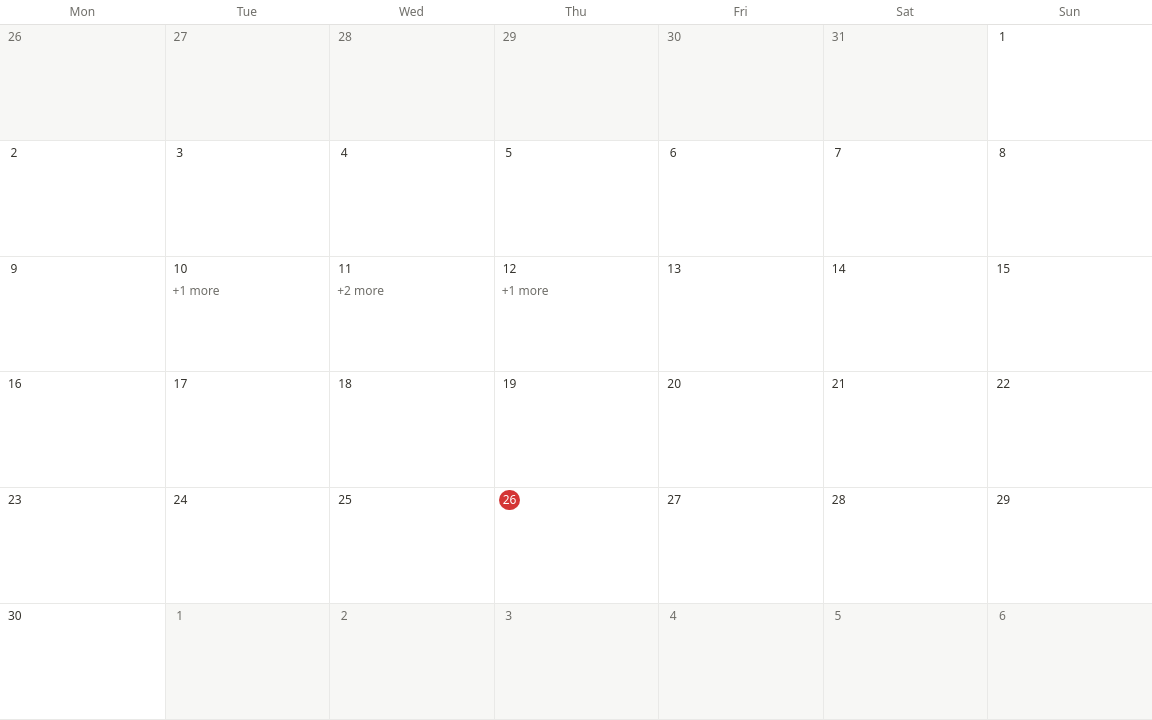
Scenario: CalendarView — +N more (CAL-4) › Esc closes the list and returns focus to its +N more button (NF-4)
The image size is (1152, 720).
Click the button with aria-label "2 more on Nov 11".
click(411, 291)  # box [331,281,492,301]
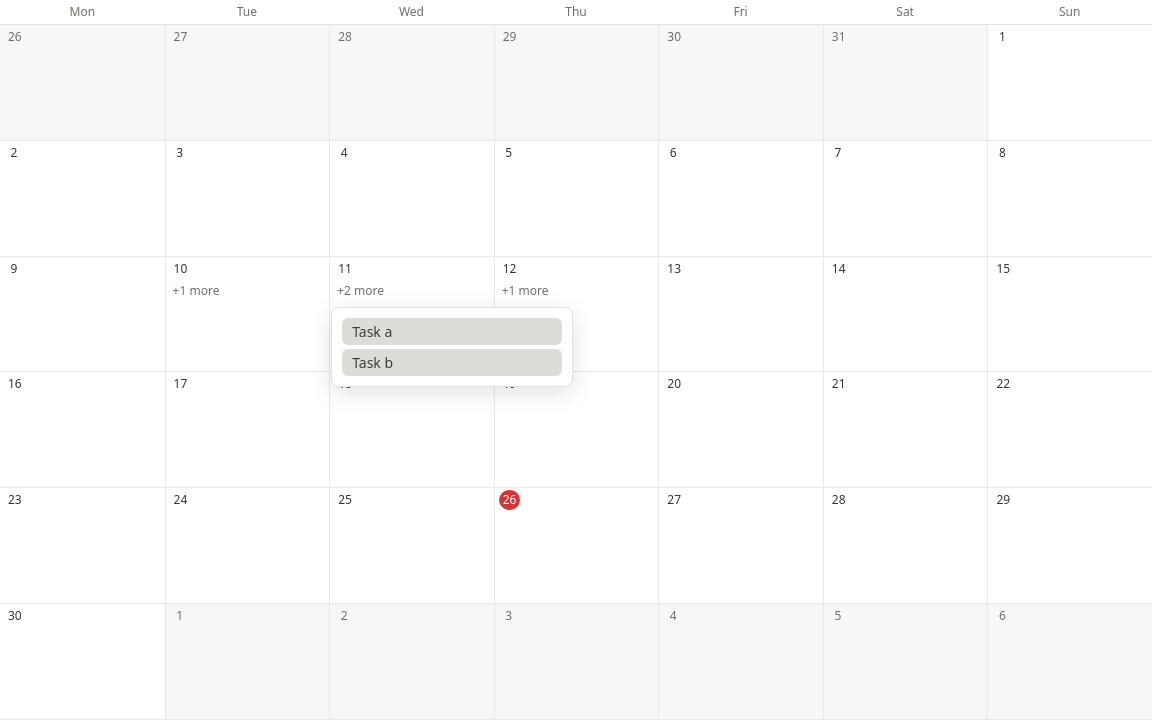
Press Escape in the dialog named "Tasks on Nov 11", box [331,307,573,387]
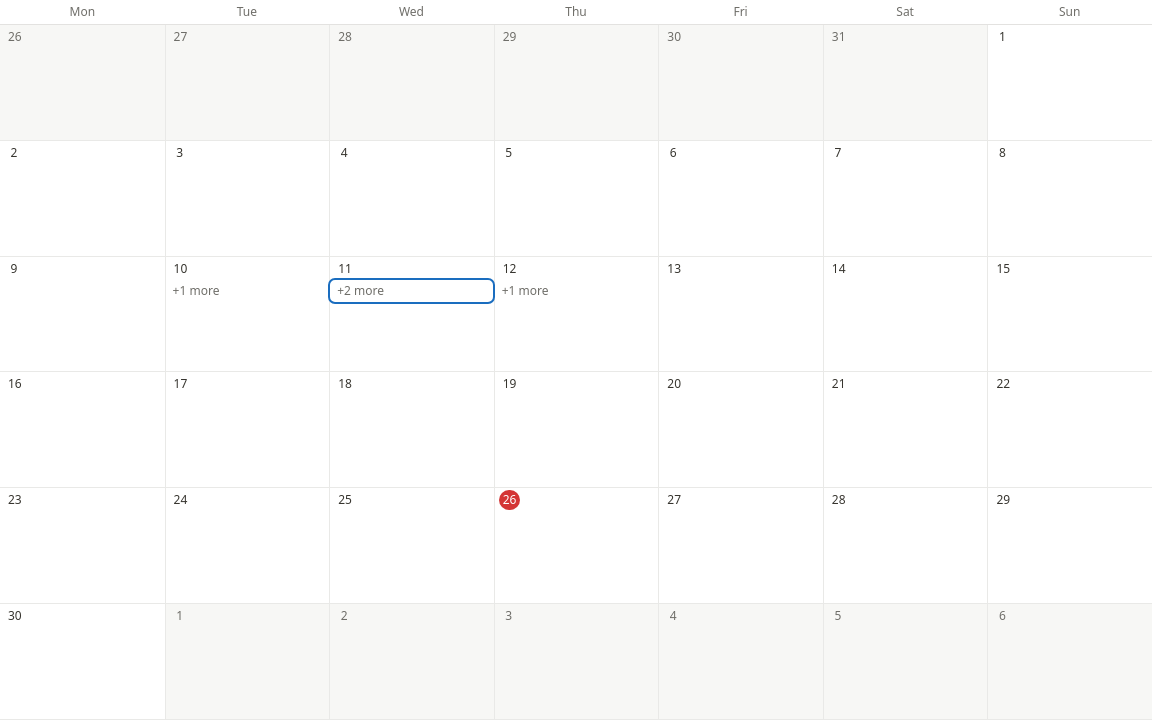
Expected: the dialog is gone
